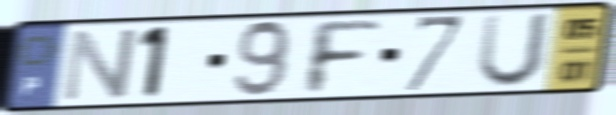1: (133, 23, 175, 102)
7: (402, 13, 470, 95)
9: (229, 18, 295, 101)
F: (304, 18, 386, 97)
N: (57, 25, 142, 105)
U: (473, 9, 557, 91)
